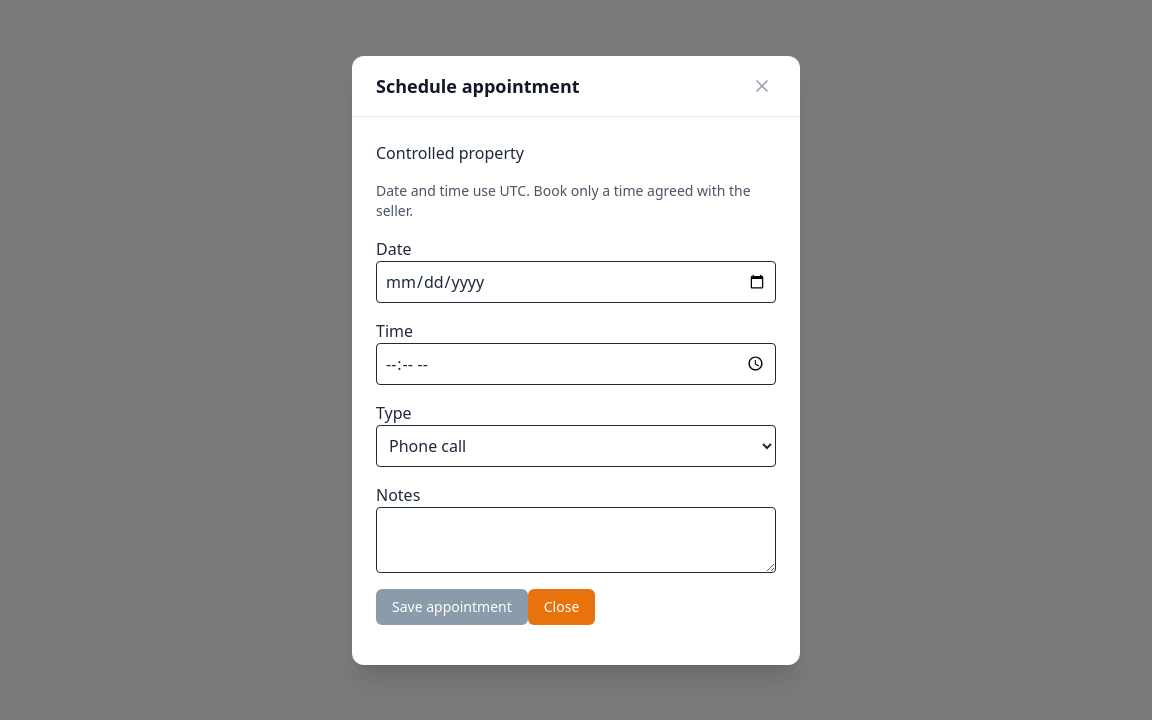
Scenario: rapid clicks send only one booking while acknowledgement is pending
In the date field named "Appointment date": (576, 282) [376, 260, 776, 302], type "2099-01-02"
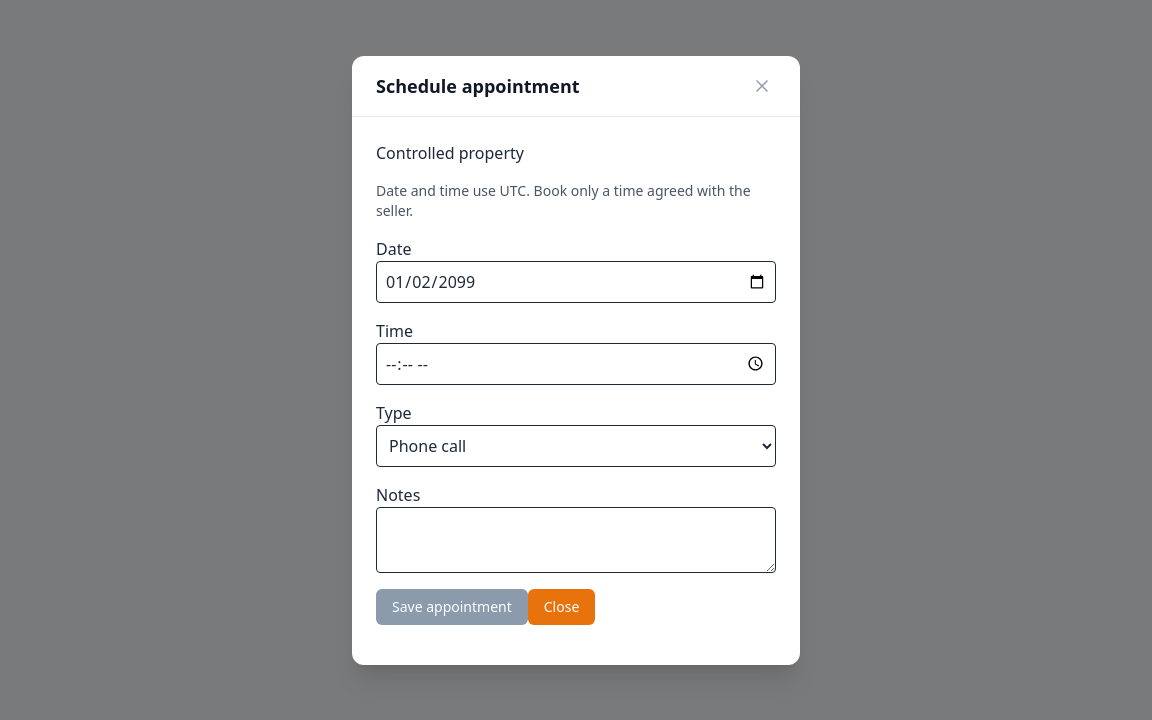
In the time field named "Appointment time": (576, 364) [376, 342, 776, 384], type "10:00"
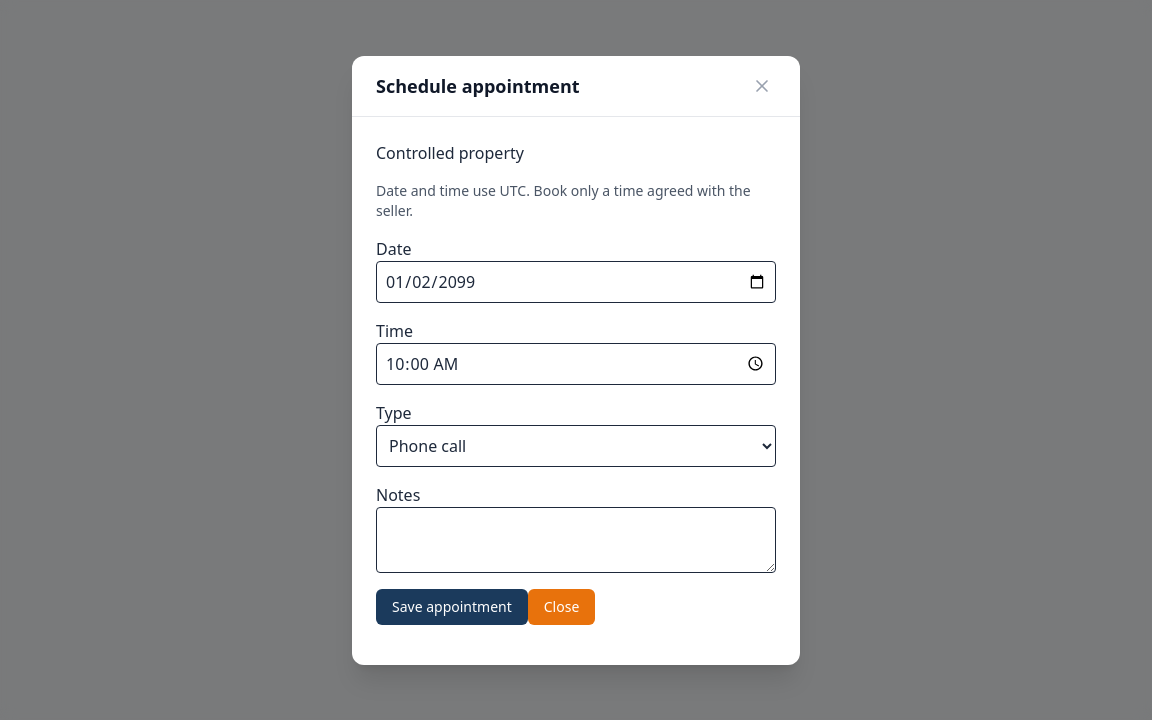
Click the button "Save appointment": (452, 606) [376, 588, 528, 624]
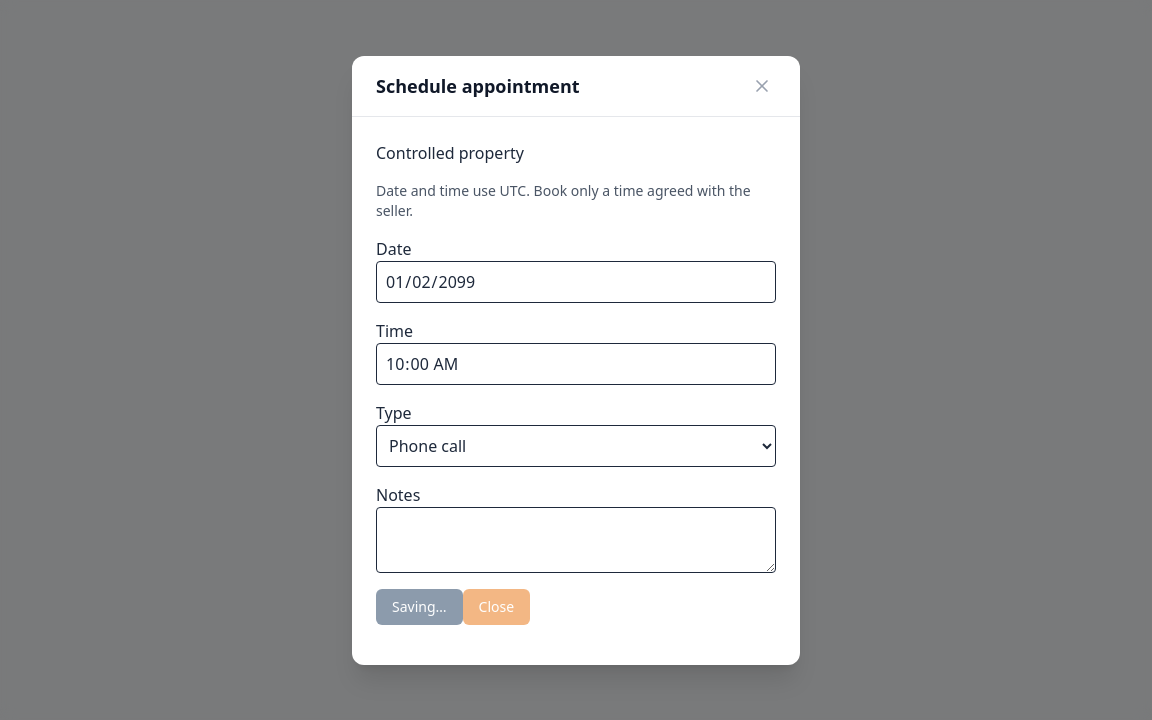
Click the button named "Save appointment": (419, 606) [376, 588, 463, 624]
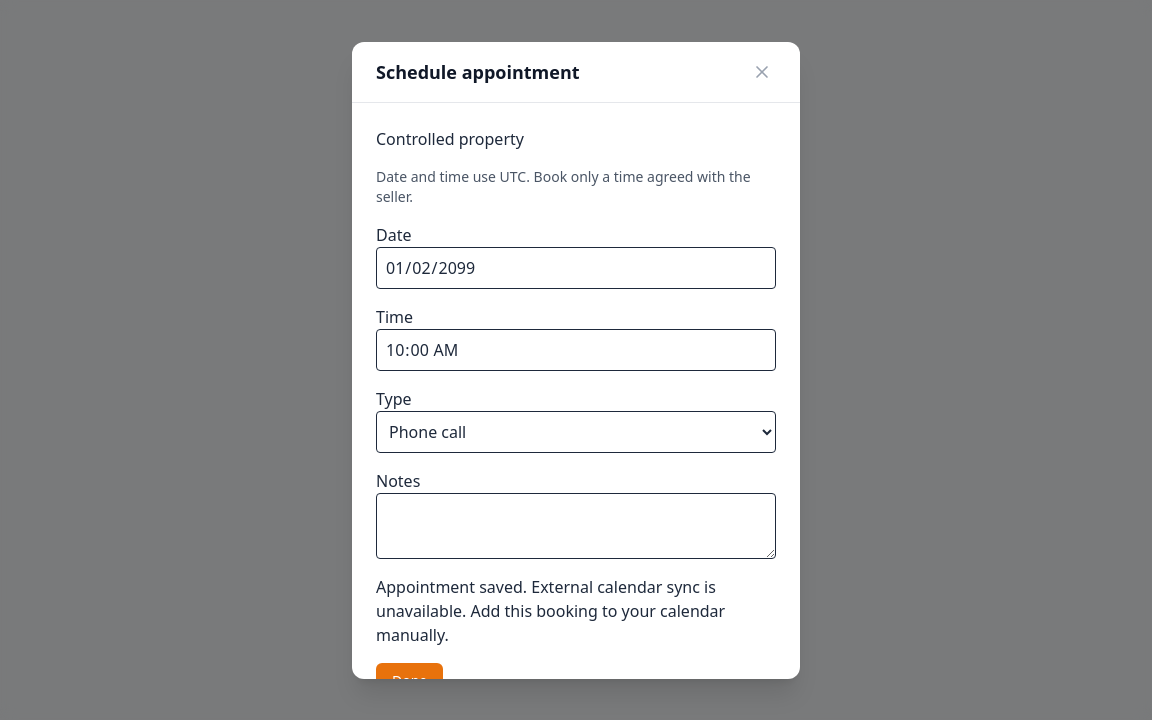
Now the text "Appointment saved" is shown, box [376, 576, 725, 646]
